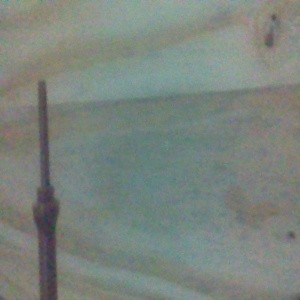obeng: (32, 79, 61, 300)
